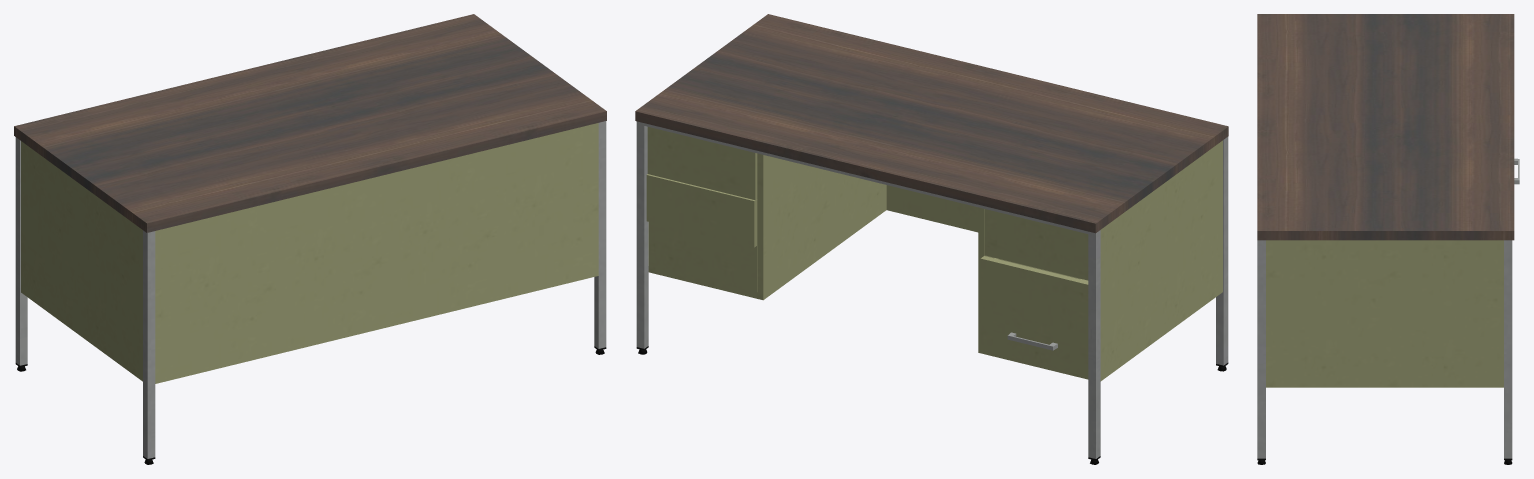
Rendered from Desk_01.dae.
3 renders of one model, left to right at view 1: azimuth 30°, elevation 25°; view 2: azimuth 150°, elevation 25°; view 3: azimuth 270°, elevation 25°, orthographic. The views are drawn at different scales.
Visible parts, largest first — view 1: Desk_01; view 2: Desk_01, D_1_Drawer_5, D_1_Drawer_2, D_1_Drawer_1, D_1_Drawer_4, D_1_Drawer_3; view 3: Desk_01.
Boxes of the visible parts, x1,y1,x2,y2 form: Desk_01: (14, 14, 606, 464); Desk_01: (635, 14, 1228, 464); D_1_Drawer_5: (980, 256, 1088, 376); D_1_Drawer_2: (646, 174, 757, 247); D_1_Drawer_1: (647, 127, 757, 200); D_1_Drawer_4: (984, 209, 1088, 280); D_1_Drawer_3: (649, 222, 757, 292); Desk_01: (1257, 14, 1514, 464).
Size of the model in its own units: 1.5 by 0.7657 by 0.755.
Materials: 4 (4 with a texture image).
